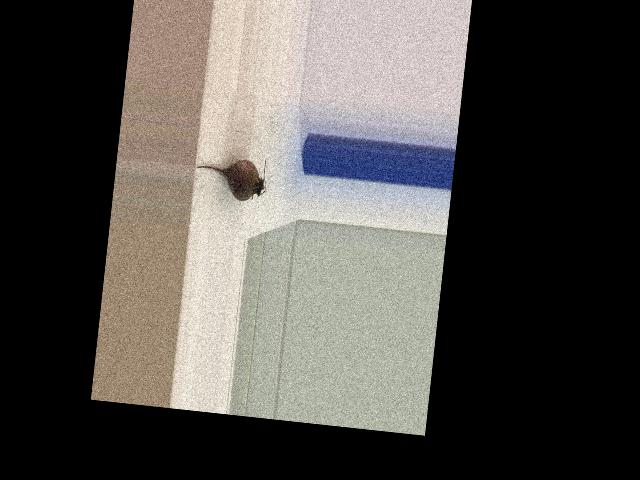beet: (193, 151, 269, 202)
